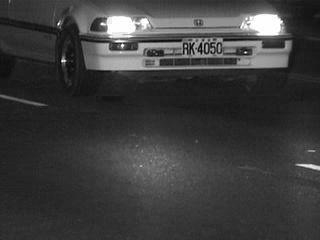plate: (182, 37, 225, 58)
